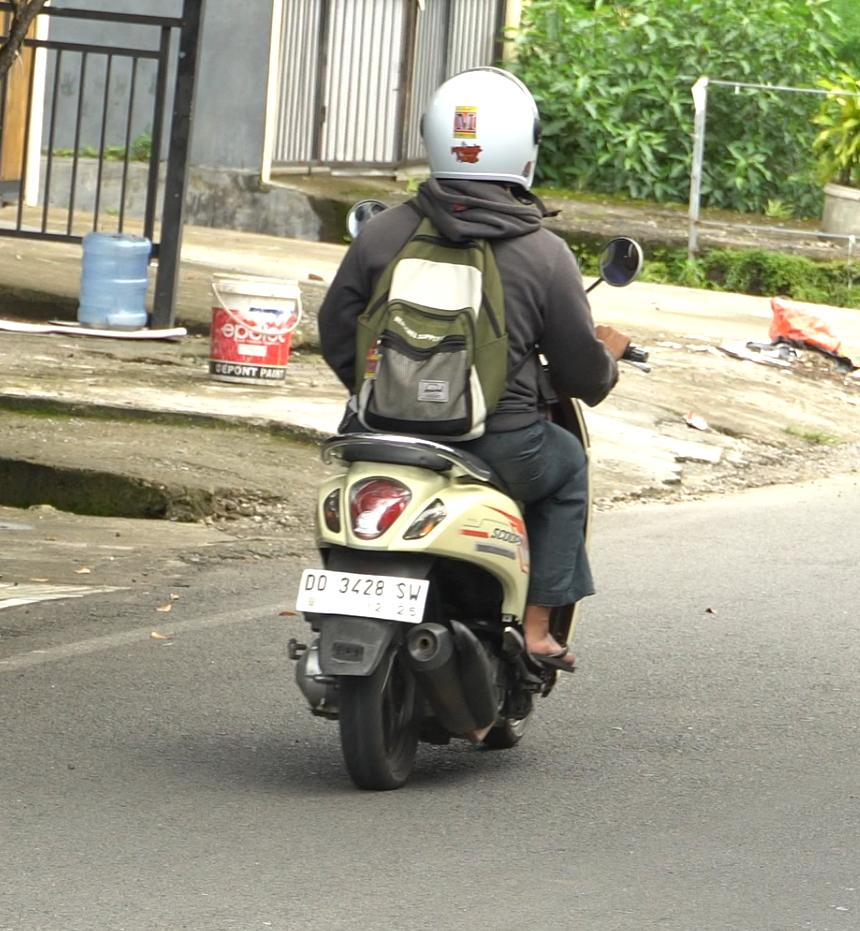number-plate: (292, 564, 432, 625)
